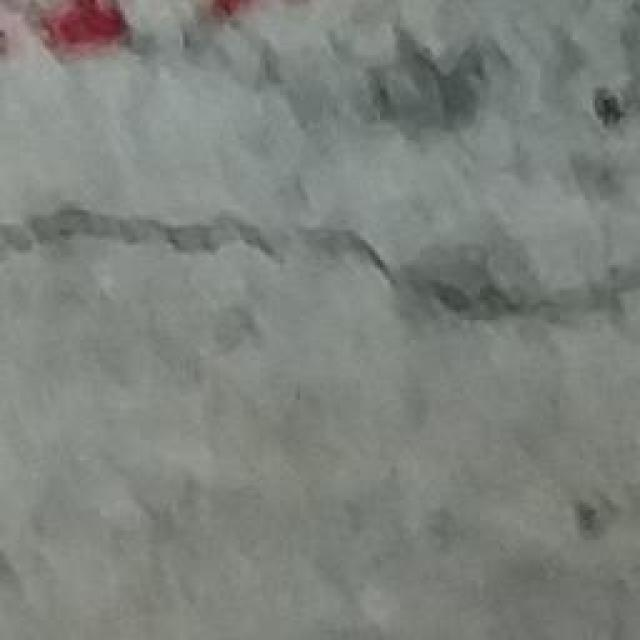Rippled: (0, 0, 633, 147)
Transverse: (1, 184, 640, 343)
